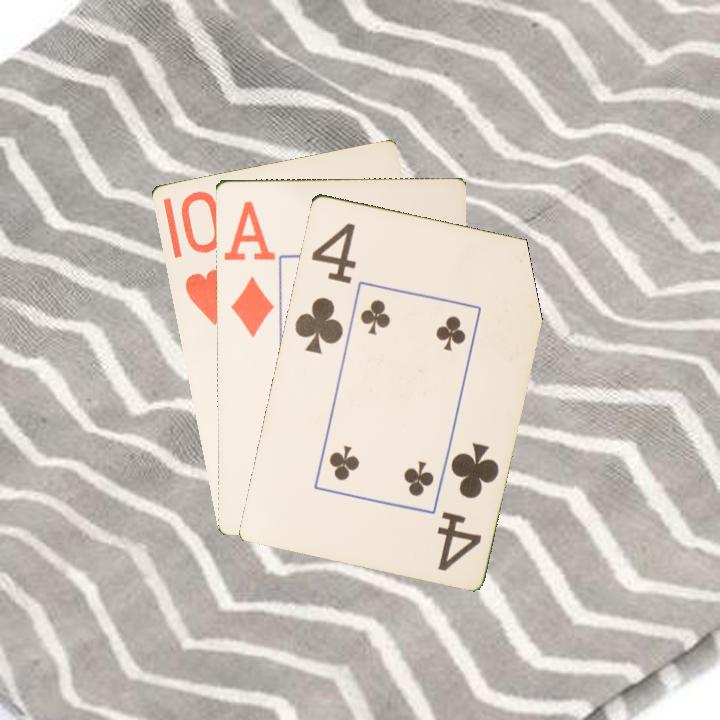10h: (176, 186, 231, 328)
4c: (290, 218, 359, 356), (433, 438, 502, 573)
Ad: (220, 197, 277, 340)
